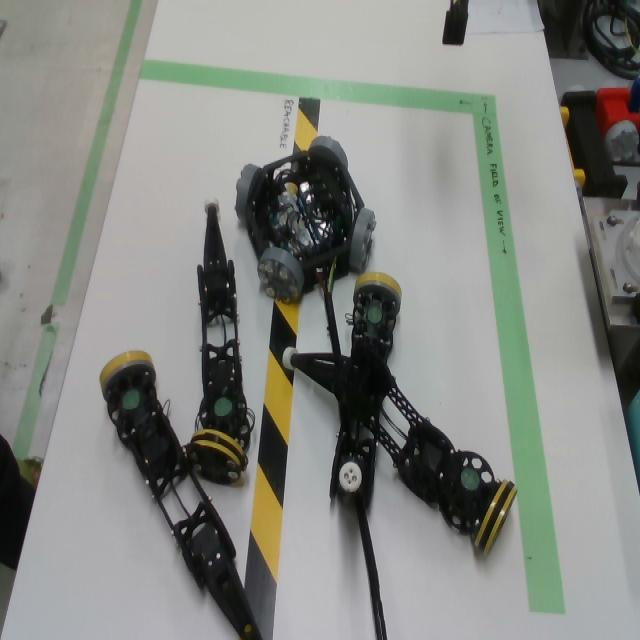body: (248, 152, 364, 295)
body_connector: (257, 247, 304, 304), (348, 208, 376, 275), (235, 164, 262, 220), (309, 136, 349, 168)
leg: (282, 347, 517, 553), (100, 351, 264, 640), (185, 196, 250, 487), (329, 404, 376, 507), (351, 272, 402, 363)
leg_connector: (185, 428, 248, 484), (474, 480, 517, 555), (99, 351, 156, 401), (354, 272, 402, 315)
leg_marker: (461, 468, 480, 492), (214, 397, 233, 416), (123, 391, 139, 409), (367, 307, 382, 323)
